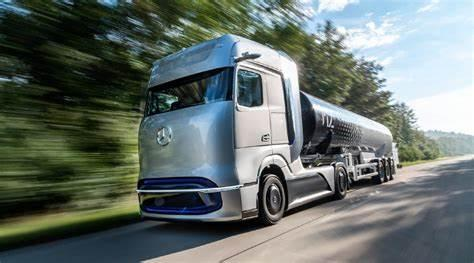truck: (133, 27, 398, 227)
